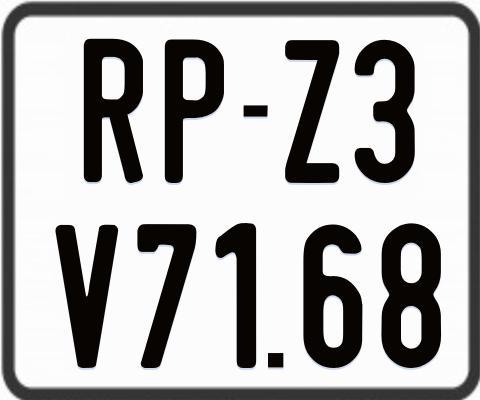1: (213, 220, 258, 366)
3: (354, 40, 418, 185)
6: (301, 224, 361, 372)
7: (136, 223, 195, 371)
8: (379, 220, 445, 366)
P: (163, 36, 222, 186)
R: (82, 38, 142, 183)
V: (53, 223, 115, 370)
Z: (284, 39, 340, 186)
